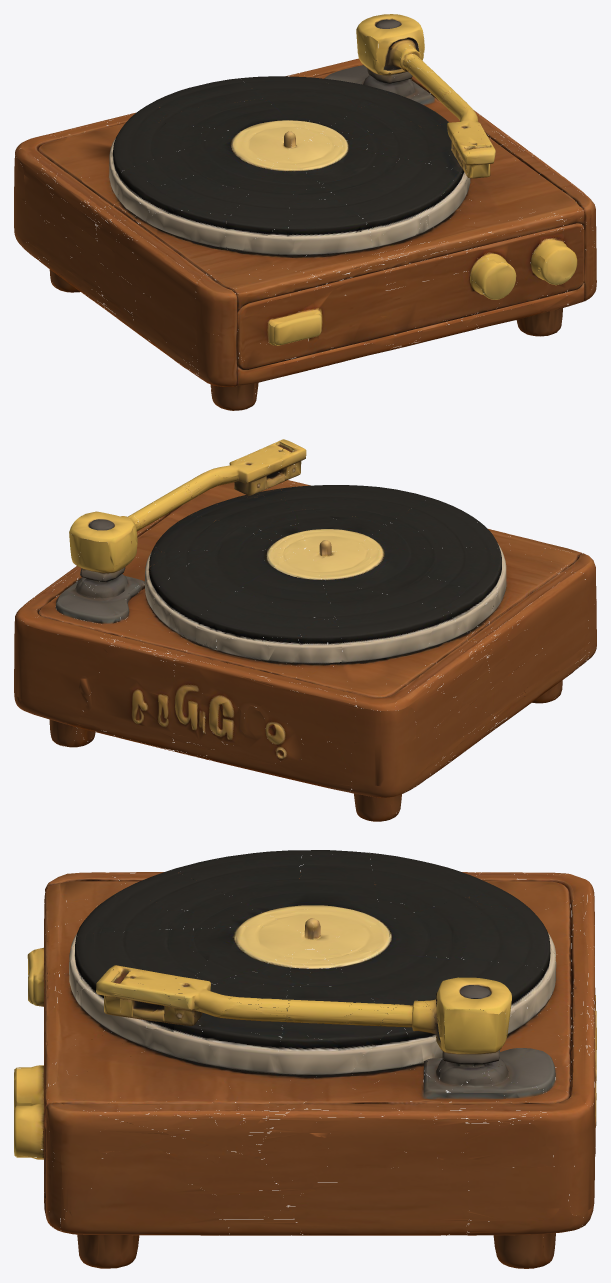
The model's file is turntable.parts.glb.
The picture shows the model from 3 angles, top to bottom: view 1: azimuth 30°, elevation 25°; view 2: azimuth 150°, elevation 25°; view 3: azimuth 270°, elevation 25°; orthographic projection. The views are drawn at different scales.
Parts seen in each view (by area): view 1: mechanism, body; view 2: mechanism, body; view 3: mechanism, body.
Boxes of the visible parts, x1,y1,x2,y2 form: mechanism: [14, 14, 595, 310]; body: [14, 165, 596, 410]; mechanism: [14, 439, 595, 723]; body: [14, 578, 596, 821]; mechanism: [44, 850, 595, 1136]; body: [14, 919, 596, 1268].
Size of the model in its own units: 0.9804 by 0.4863 by 0.9757.
1 material, 1 textured.
